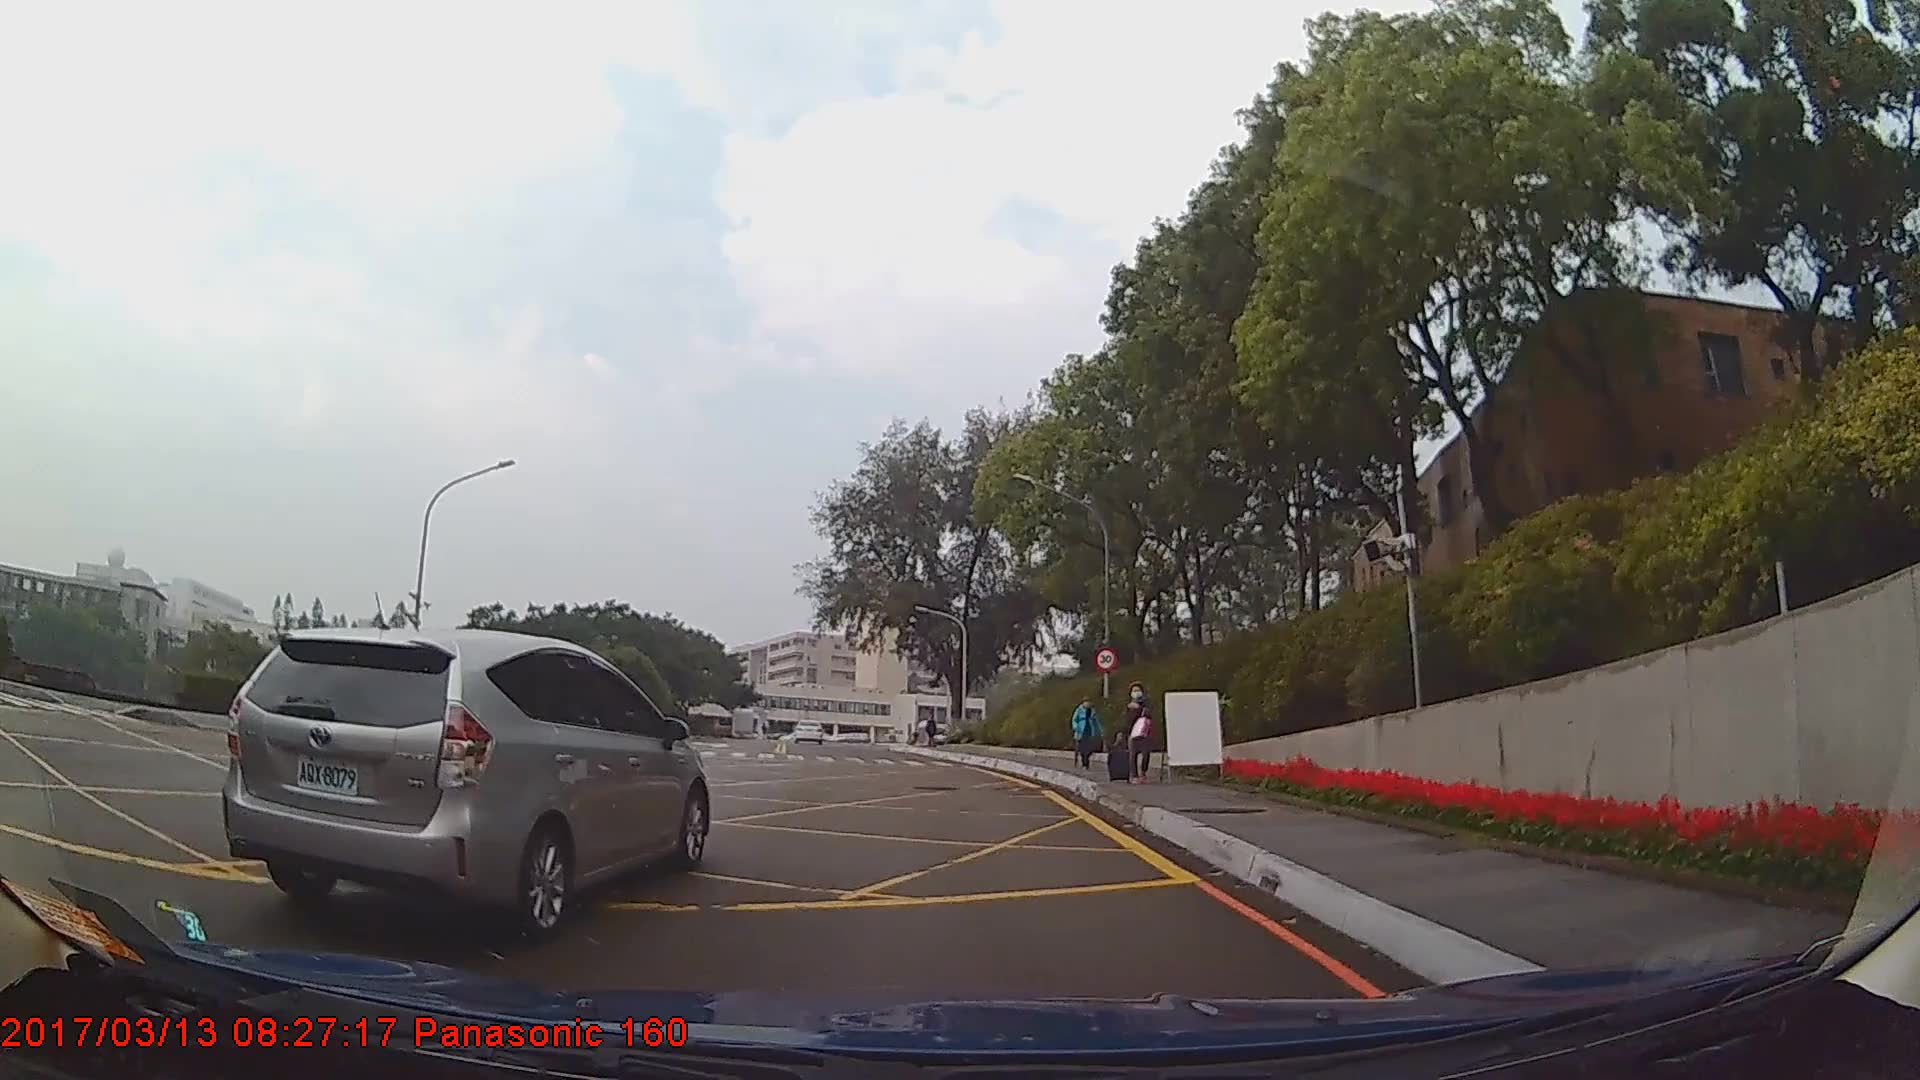pedestrian: (1114, 681, 1163, 783), (1073, 693, 1103, 771)
vehicle: (217, 624, 710, 942), (791, 714, 825, 741)
